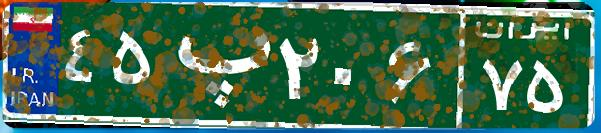0: (330, 28, 385, 110)
2: (273, 28, 330, 110)
4: (57, 26, 110, 107)
5: (110, 28, 158, 105), (525, 38, 570, 115)
6: (385, 28, 445, 110)
7: (475, 38, 525, 113)
پ: (158, 15, 273, 115)
